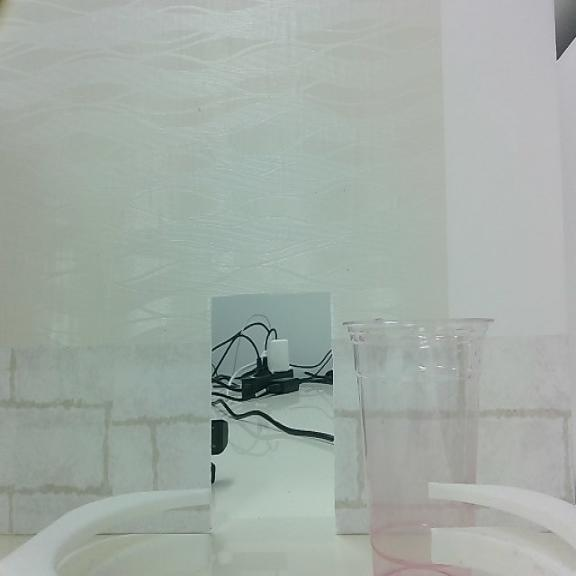Plastik: (342, 316, 493, 576)
